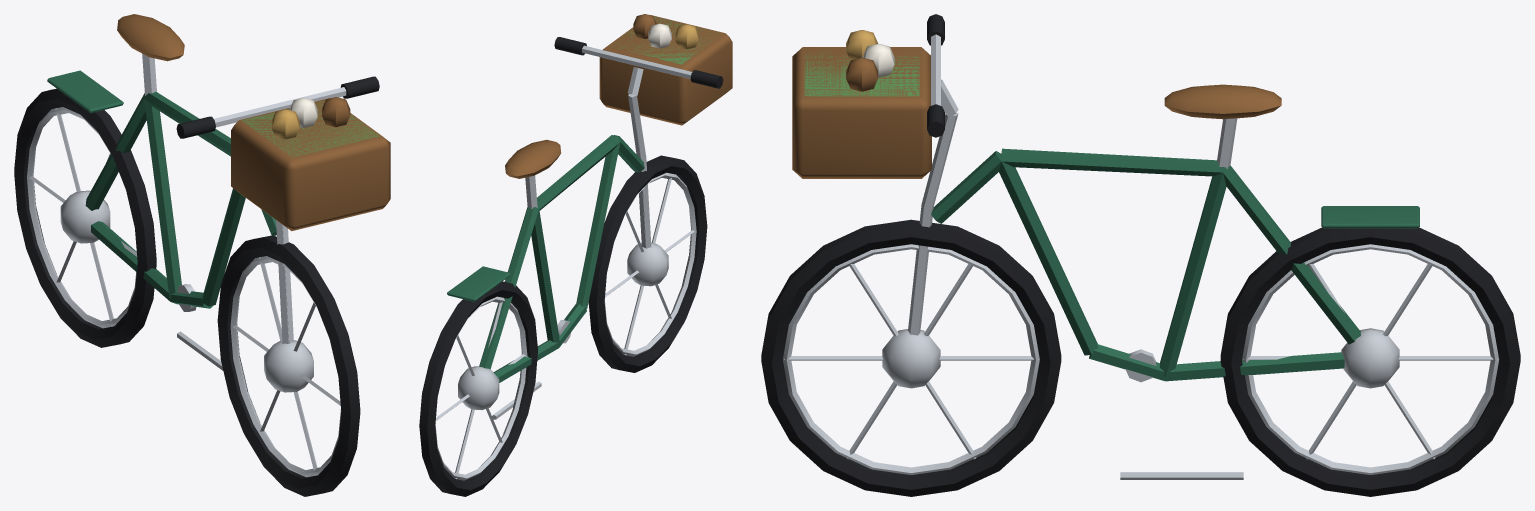
The model's file is bicycle_parked.glb.
The picture shows the model from 3 angles, left to right: view 1: azimuth 30°, elevation 25°; view 2: azimuth 150°, elevation 25°; view 3: azimuth 270°, elevation 25°; orthographic projection. The views are drawn at different scales.
Visible parts, largest first — view 1: bicycle_parked; view 2: bicycle_parked; view 3: bicycle_parked.
Boxes of the visible parts, x1,y1,x2,y2 form: bicycle_parked: (14, 14, 390, 496); bicycle_parked: (419, 14, 732, 496); bicycle_parked: (761, 14, 1520, 496).
Size of the model in its own units: 0.62 by 1.21 by 1.85.
